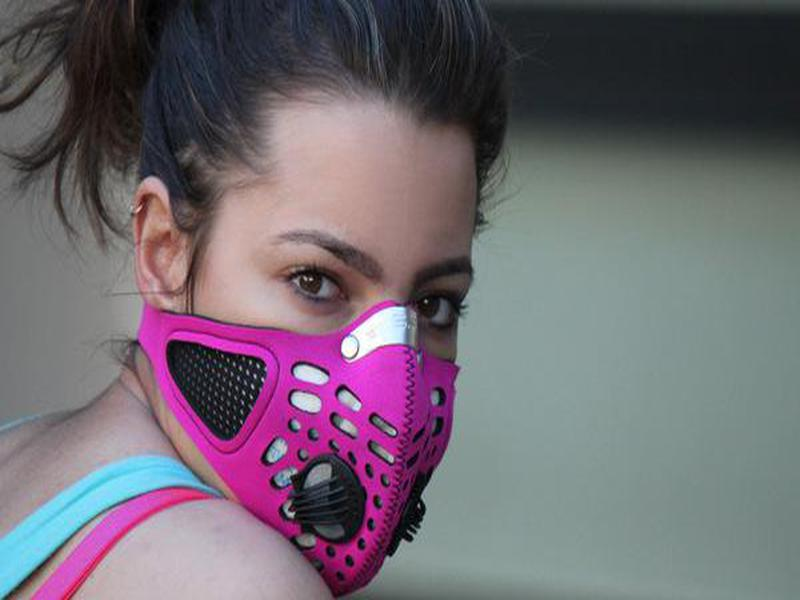with_mask: (113, 1, 488, 598)
